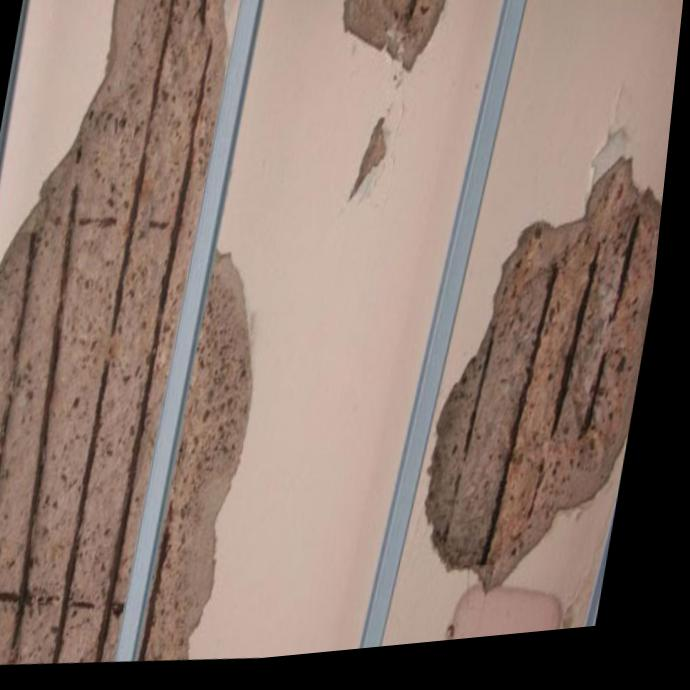damage: (0, 0, 263, 666), (437, 170, 668, 607), (345, 0, 448, 81), (353, 126, 390, 209)
